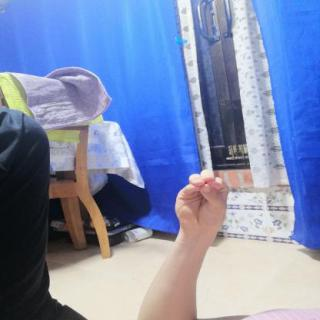HA: (168, 162, 236, 242)
